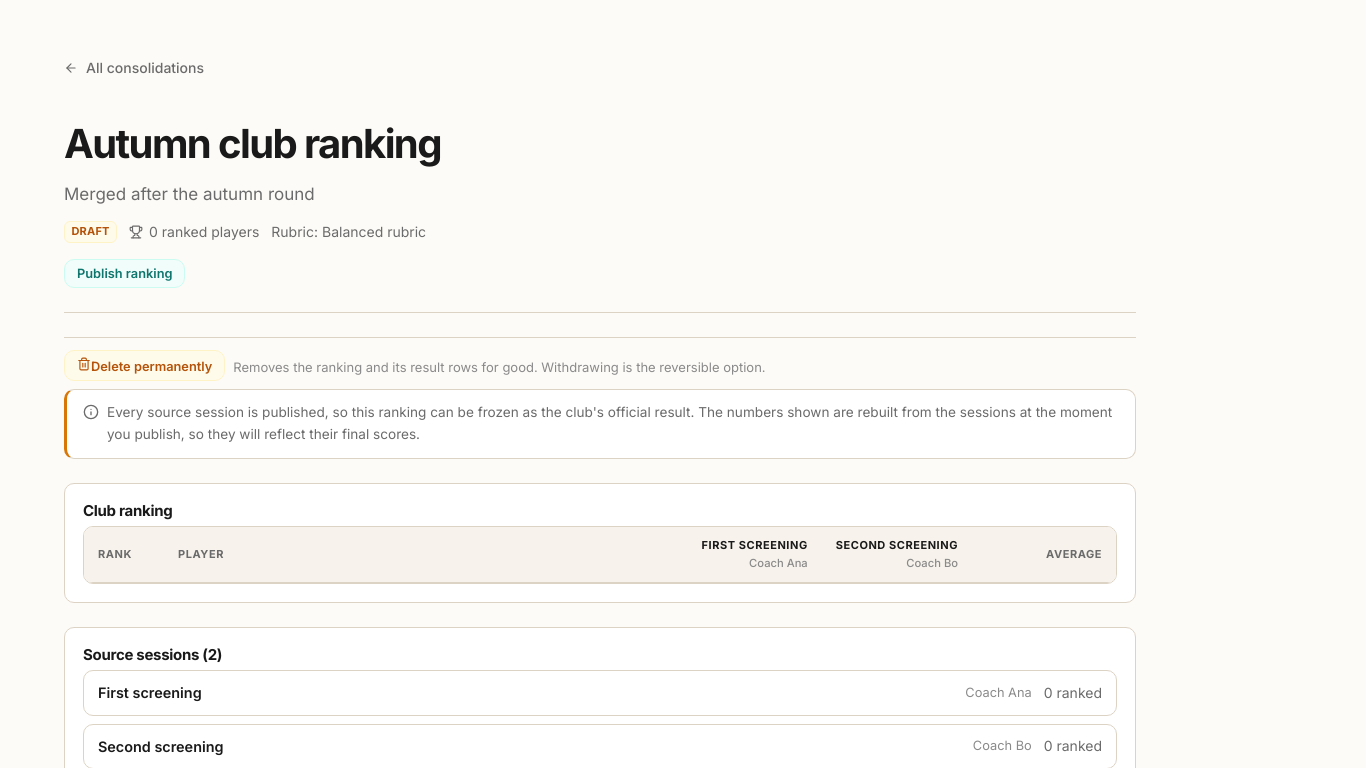
Test: RankingConsolidationDetail › publication › publishes a draft once every source session is published
Click the button "Publish ranking" at (125, 274), box 64,260 -> 186,288
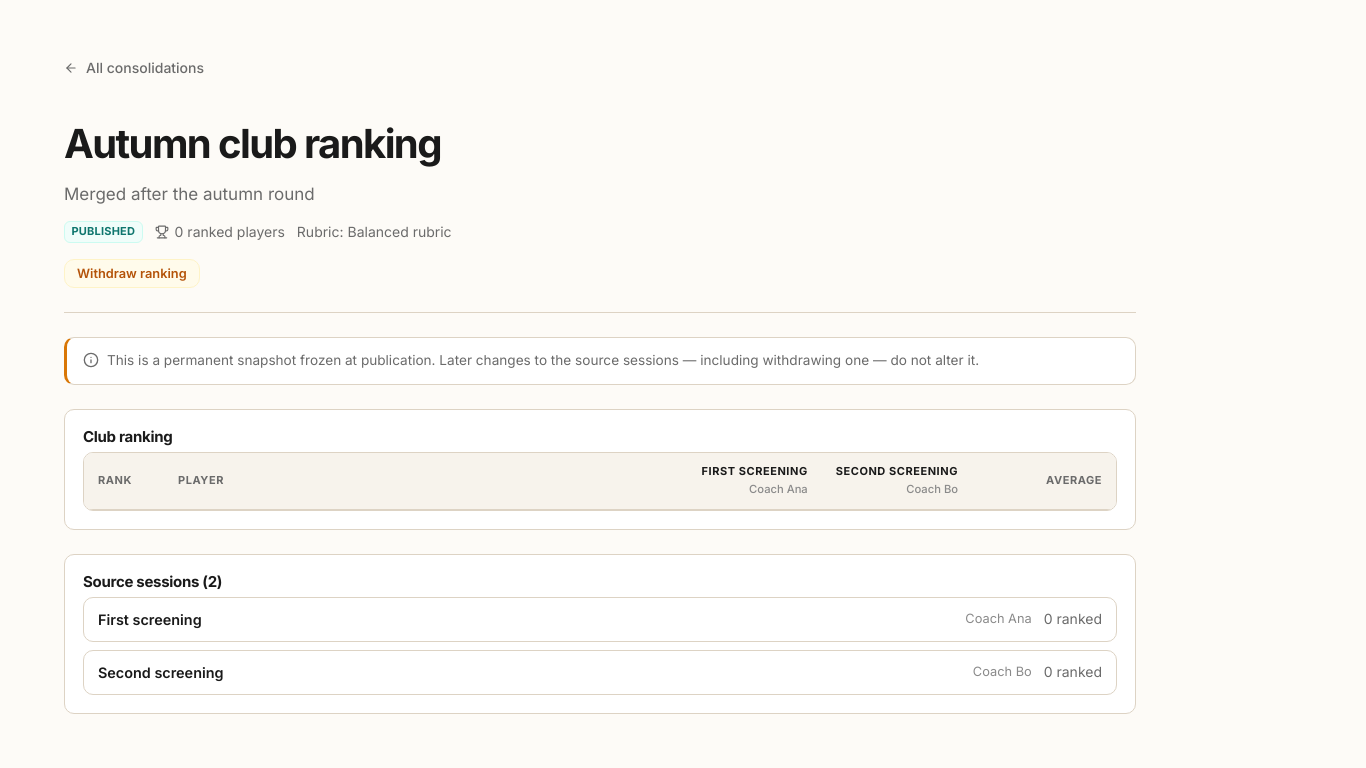
Expected: the button "Publish ranking" is gone
Expected: the text "frozen at publication" is shown, 107,352 -> 979,368
